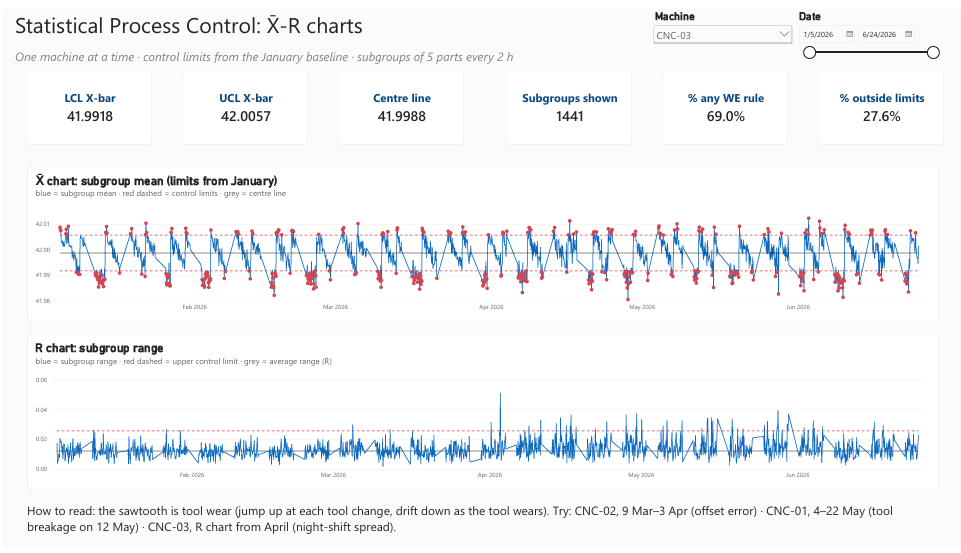

This screenshot's page, from the dashboard's own definition file:
{"tool":"powerbi","page":{"name":"SPC","canvas":[1920,1080],"ordinal":2},"visuals":[{"type":"slicer","fields":{"Values":["machines.machine_id"]},"box":[1296,0,288,150],"z":0},{"type":"slicer","fields":{"Values":["Calendar.Date"]},"box":[1584,0,300,300],"z":1000},{"type":"lineChart","title":"X̄ chart: subgroup mean (limits from January)","fields":{"Category":["spc_subgroups.measured_at"],"Y":["Measures (3).LCL X-bar","Measures (3).UCL X-bar","Measures (3).X-bar","Measures (3).Centre line","Measures (3).X-bar out of limits"]},"box":[48,312,1824,312],"z":2000},{"type":"lineChart","title":"R chart: subgroup range","fields":{"Category":["spc_subgroups.measured_at"],"Y":["Measures (3).UCL R","Measures (3).R-bar","Measures (3).Range R"]},"box":[48,648,1824,312],"z":3000},{"type":"cardVisual","fields":{"Data":["Measures (3).LCL X-bar"]},"box":[48,120,250,150],"z":4000},{"type":"cardVisual","fields":{"Data":["Measures (3).Centre line"]},"box":[672,120,250,150],"z":5000},{"type":"cardVisual","fields":{"Data":["Measures (3).UCL X-bar"]},"box":[360,120,250,150],"z":6000},{"type":"cardVisual","fields":{"Data":["Measures (3).% any WE rule"]},"box":[1320,120,250,150],"z":7000},{"type":"cardVisual","fields":{"Data":["Measures (3).% outside limits"]},"box":[1632,120,250,150],"z":8000},{"type":"textbox","box":[24,0,1104,144],"z":9000},{"type":"cardVisual","fields":{"Data":["Measures (3).Subgroups shown"]},"box":[1008,120,250,150],"z":10000},{"type":"textbox","box":[48,984,1824,72],"z":10001}]}

Visuals, with their boxes in screenshot pixels (x1, y1, x2, y2), scaled from the page's 1920x1080 canvas onto the 961x553 screenshot:
slicer - machines.machine_id: (649, 0, 793, 77)
slicer - Calendar.Date: (793, 0, 943, 154)
"X̄ chart: subgroup mean (limits from January)" lineChart: (24, 160, 937, 320)
"R chart: subgroup range" lineChart: (24, 332, 937, 492)
cardVisual - Measures (3).LCL X-bar: (24, 61, 149, 138)
cardVisual - Measures (3).Centre line: (336, 61, 461, 138)
cardVisual - Measures (3).UCL X-bar: (180, 61, 305, 138)
cardVisual - Measures (3).% any WE rule: (661, 61, 786, 138)
cardVisual - Measures (3).% outside limits: (817, 61, 942, 138)
textbox: (12, 0, 565, 74)
cardVisual - Measures (3).Subgroups shown: (505, 61, 630, 138)
textbox: (24, 504, 937, 541)
